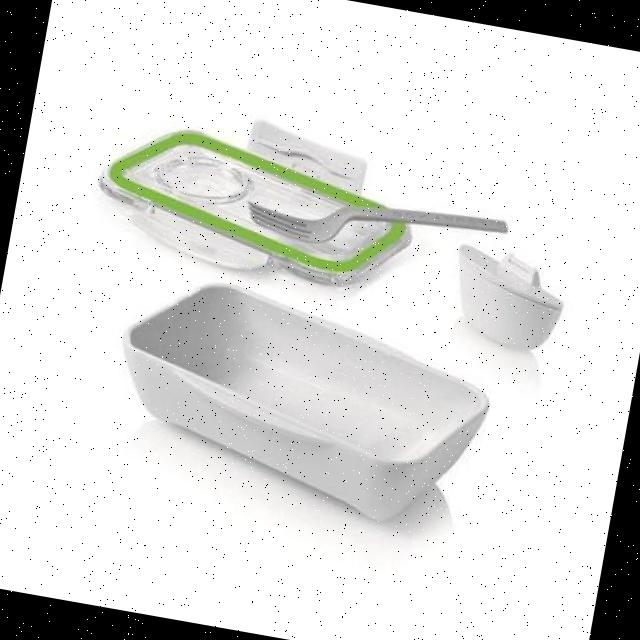styrofoam: (98, 264, 502, 536)
